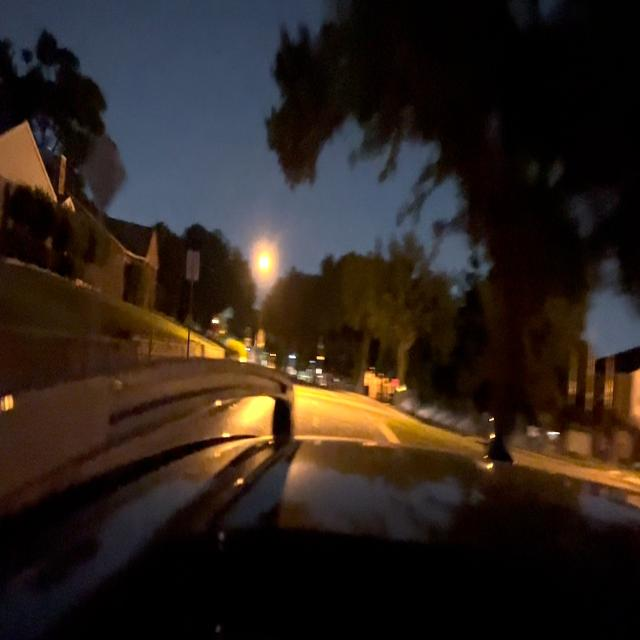back-of-sign: (187, 248, 200, 277)
